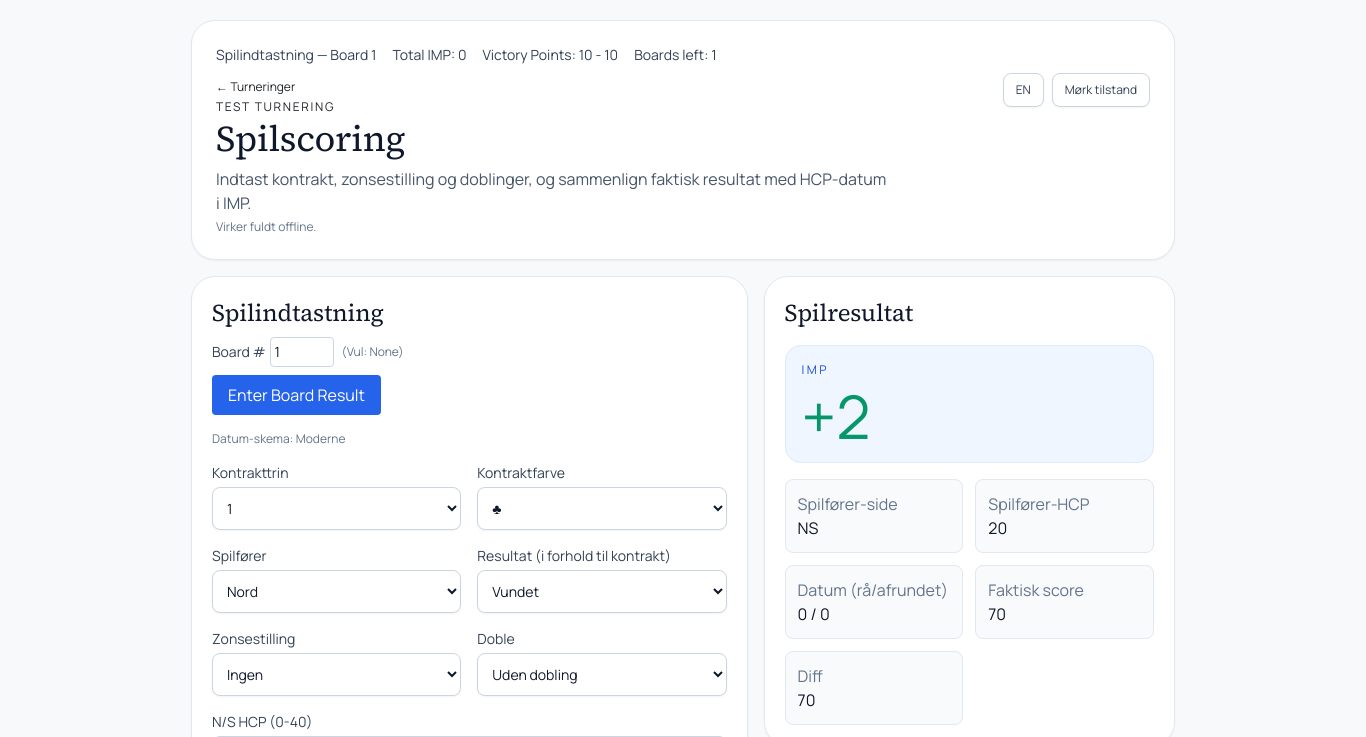
Test: BoardEntry › shows completion popup and can dismiss it
Click the button "Enter Board Result". click: (296, 395)
box: [212, 375, 381, 415]
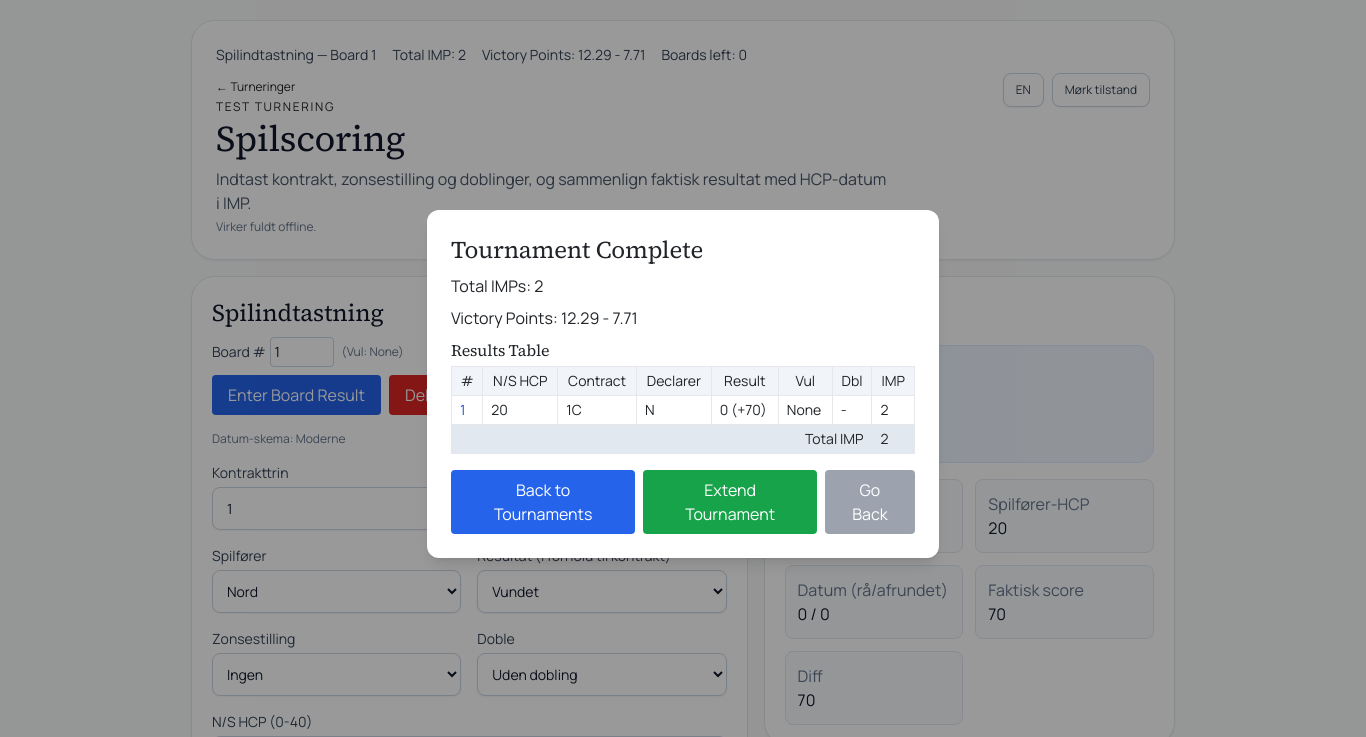
expect the heading "Tournament Complete" is shown: met, box [451, 233, 703, 266]
Click the button "Go Back". click: (870, 502)
box: [825, 470, 915, 534]
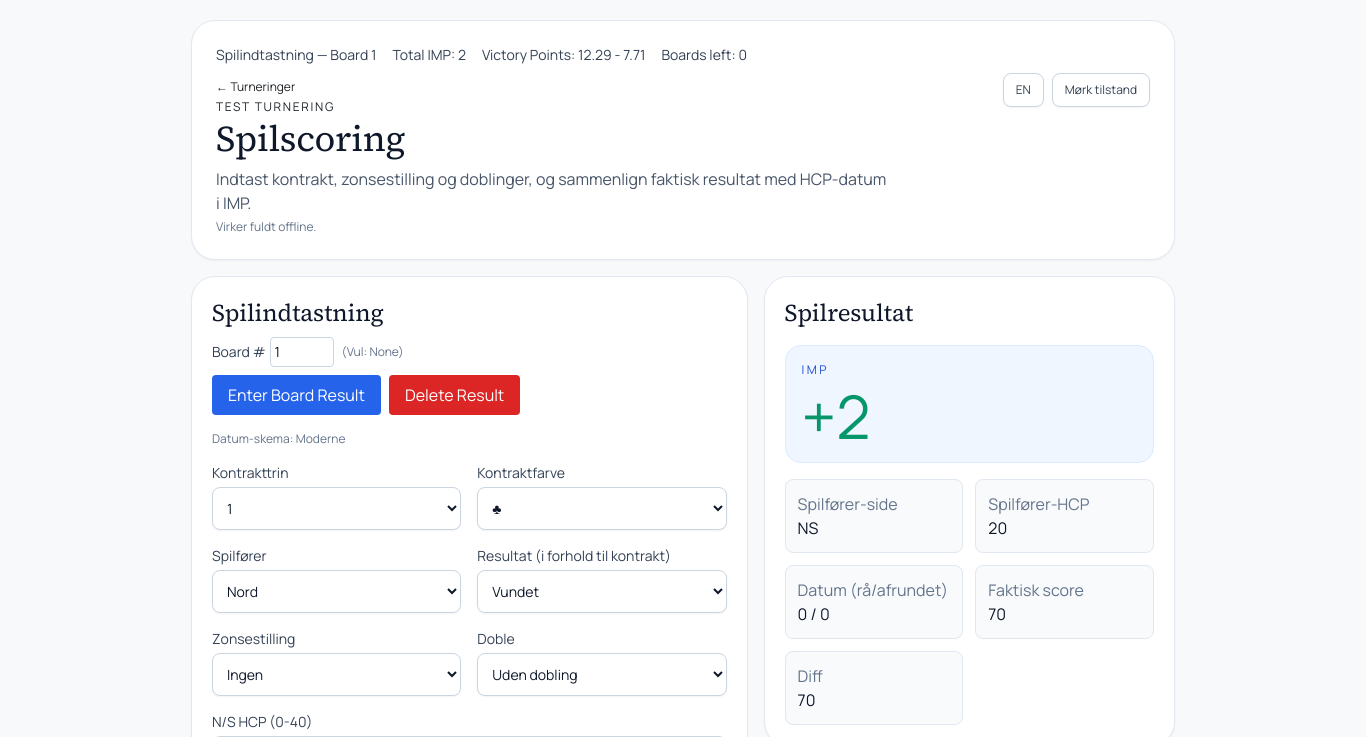
expect the heading "Tournament Complete" is gone: met
